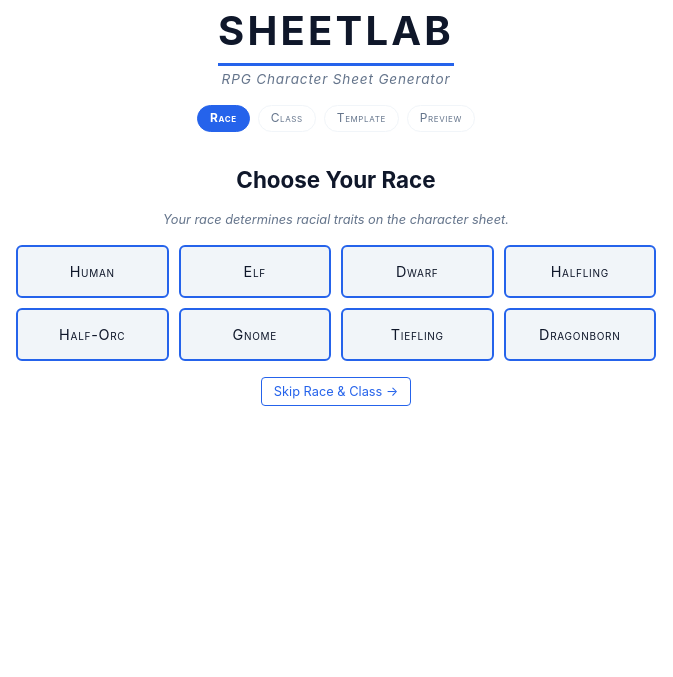
Scenario: Wizard › skip class on class step still advances to template
Click the button "Human" at (92,272), box [16, 245, 168, 298]
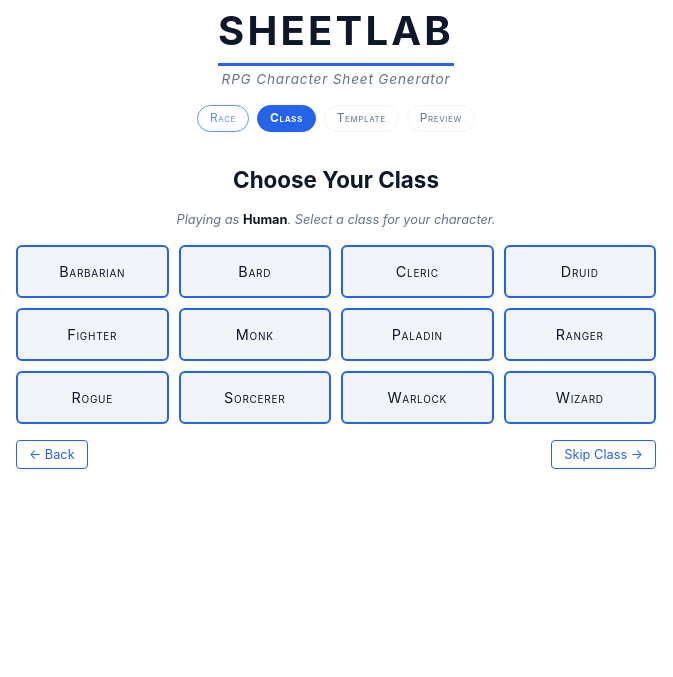
Click the button "Skip Class →" at (604,455), box [551, 440, 656, 469]
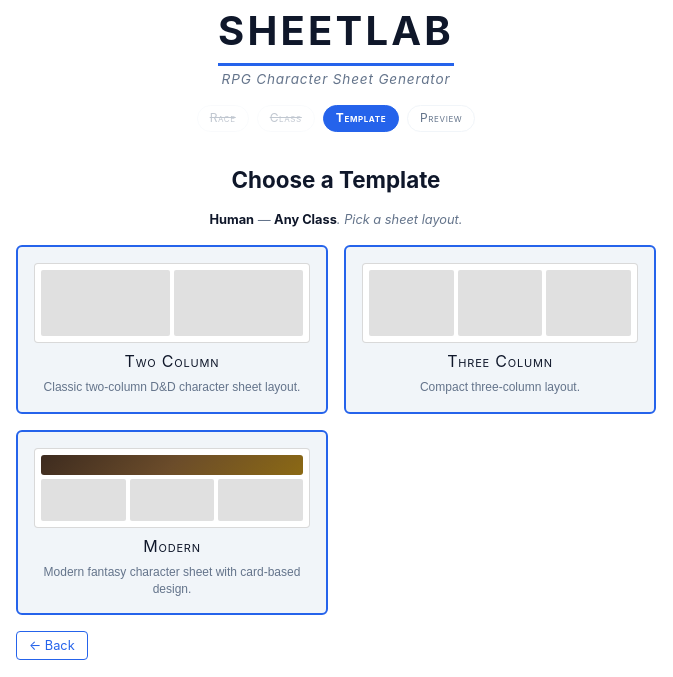
Check: the heading "Choose a Template" is shown, box [232, 166, 440, 193]
